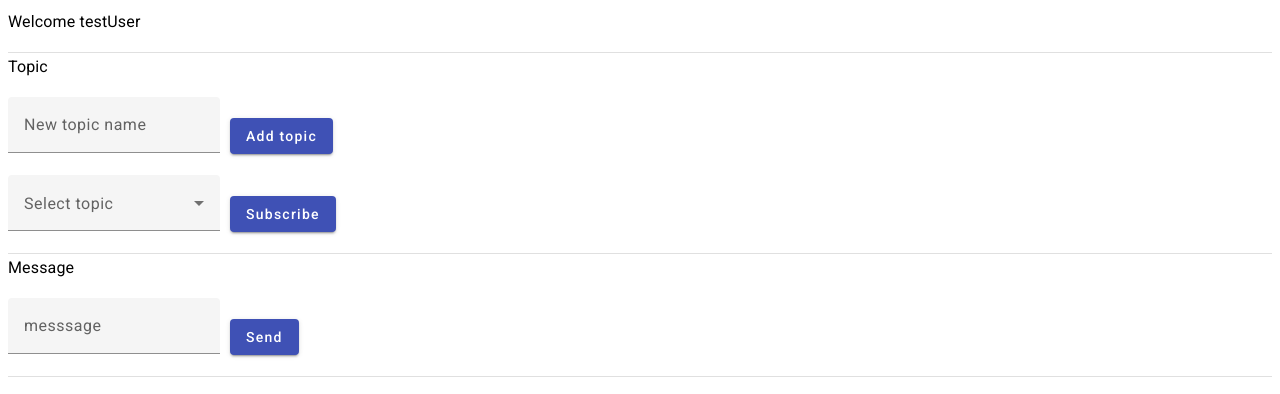
Test: messaging template spec › Should notify when subscribing without selecting a topic
Click the button with id "subscribe-button": x=283, y=214 [230,196,336,232]
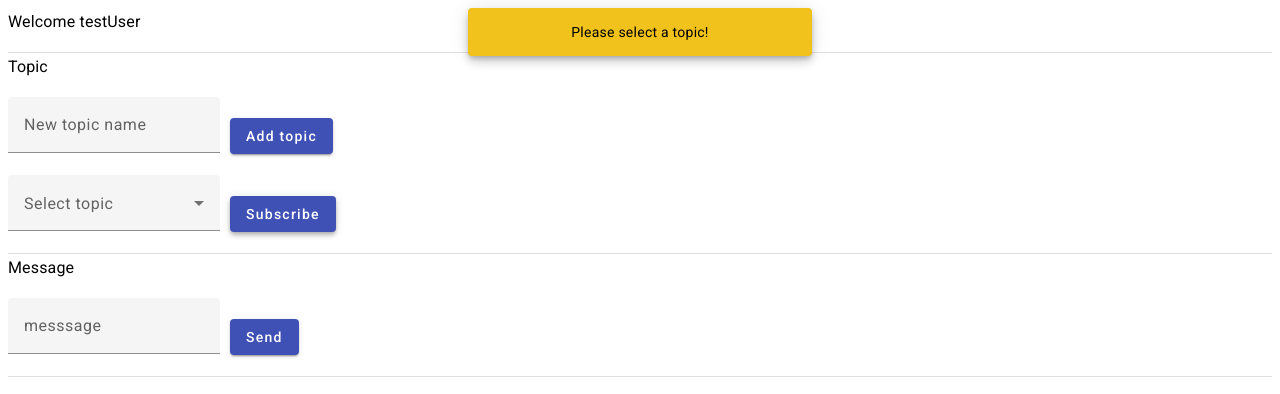
Expected: the text "Please select a topic!" is shown, [571,24,709,40]
